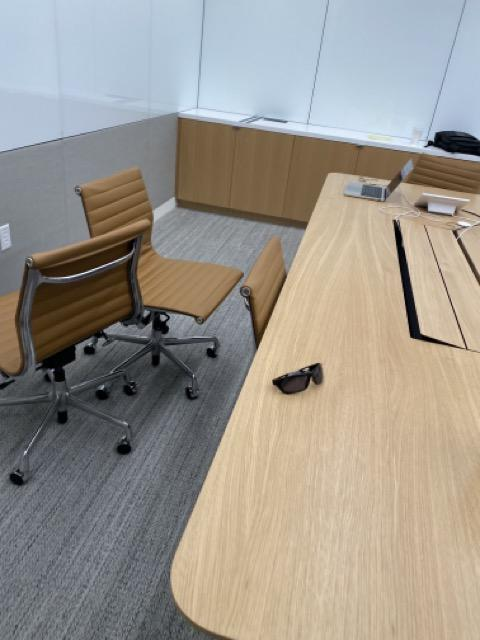Sunglasses: (274, 361, 325, 394)
